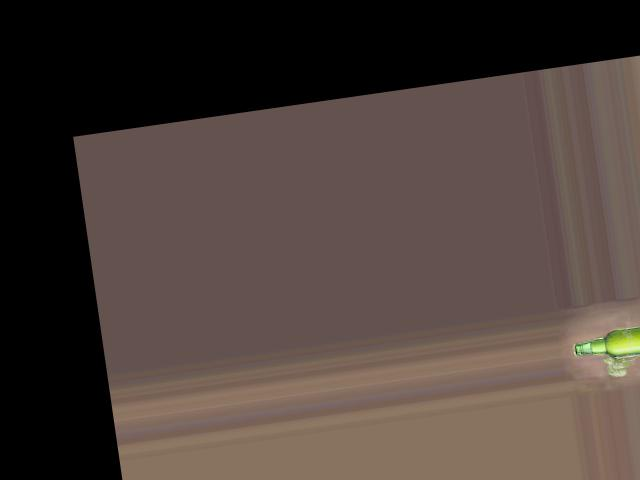beer: (570, 319, 640, 363)
